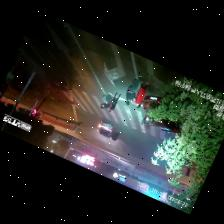person: (126, 75, 142, 104), (134, 81, 149, 107), (109, 92, 120, 111), (101, 93, 113, 108)
